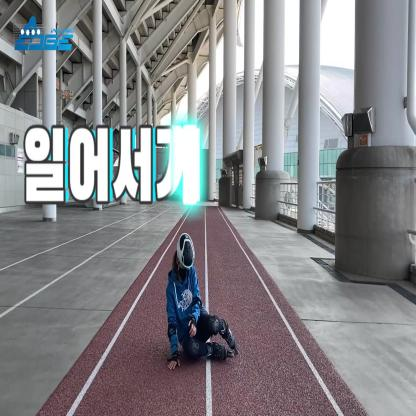Fall_Down: (166, 233, 235, 371)
